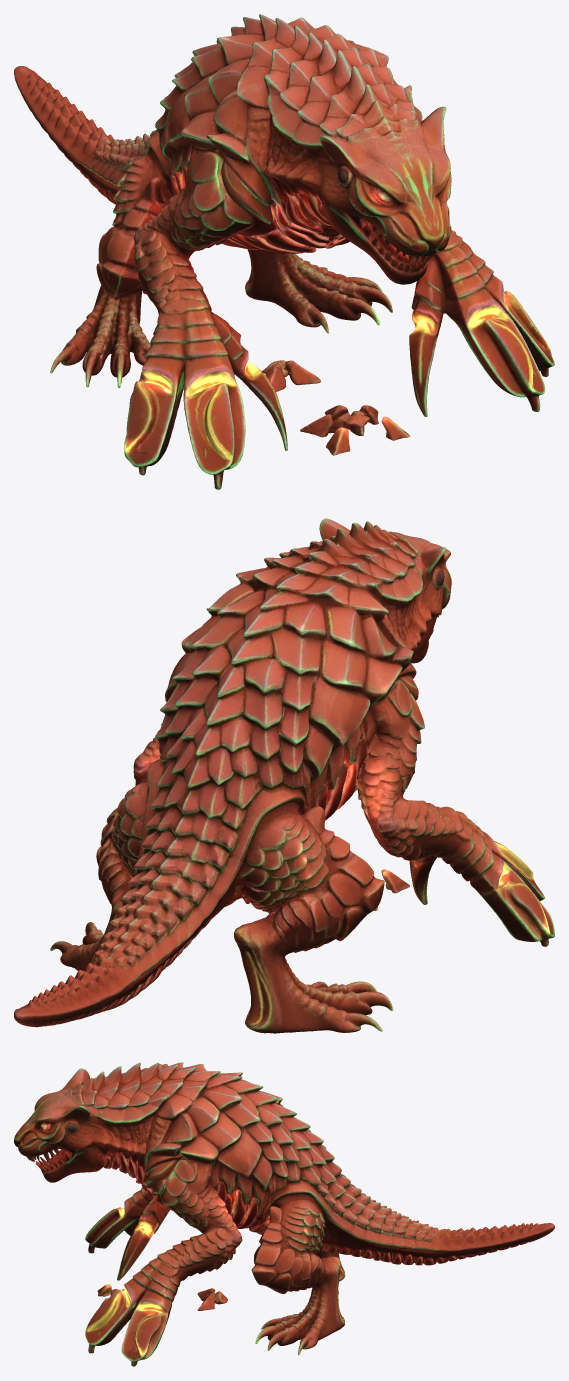
The model's file is Meshy_AI_Lunar_Emberwyrm_0606144858_image-to-3d-texture-compressed.glb.
3 renders of one model, top to bottom at view 1: azimuth 30°, elevation 25°; view 2: azimuth 150°, elevation 25°; view 3: azimuth 270°, elevation 25°, orthographic. The views are drawn at different scales.
Parts seen in each view (by area): view 1: Mesh_0; view 2: Mesh_0; view 3: Mesh_0.
Part boxes in pixels (left/top/right/bottom): Mesh_0: left=14, top=14, right=554, bottom=489; Mesh_0: left=14, top=518, right=554, bottom=1033; Mesh_0: left=14, top=1062, right=554, bottom=1366.
Bounding box in the file's own units: 0.1434 × 0.1199 × 0.2448.
Materials: 1 (1 with a texture image).
